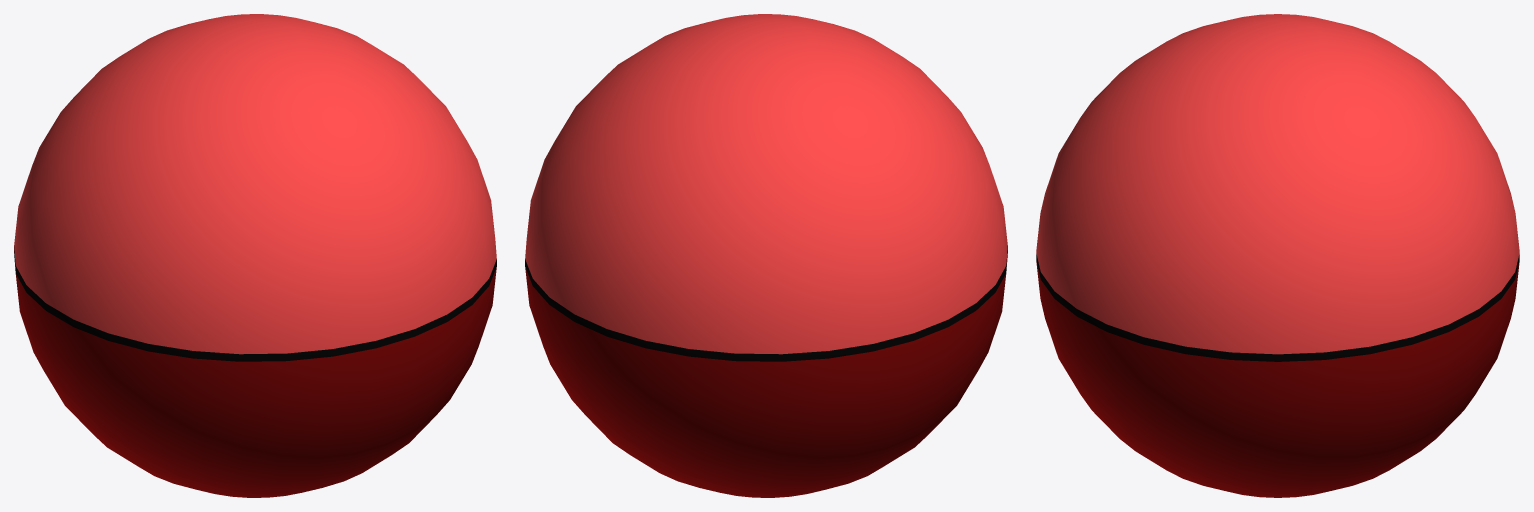
The model's file is MaterialTest.glb.
3 views of the same model, side by side, from view 1: azimuth 30°, elevation 25°; view 2: azimuth 150°, elevation 25°; view 3: azimuth 270°, elevation 25° (orthographic).
Visible parts, largest first — view 1: Sphere001; view 2: Sphere001; view 3: Sphere001.
Boxes of the visible parts, box(x1,y1,x2,y2) form: Sphere001: box(14, 14, 496, 497); Sphere001: box(525, 14, 1007, 497); Sphere001: box(1036, 14, 1519, 497).
Size of what is drawn, in the model's own units: 6.29 by 6.3 by 6.29.
